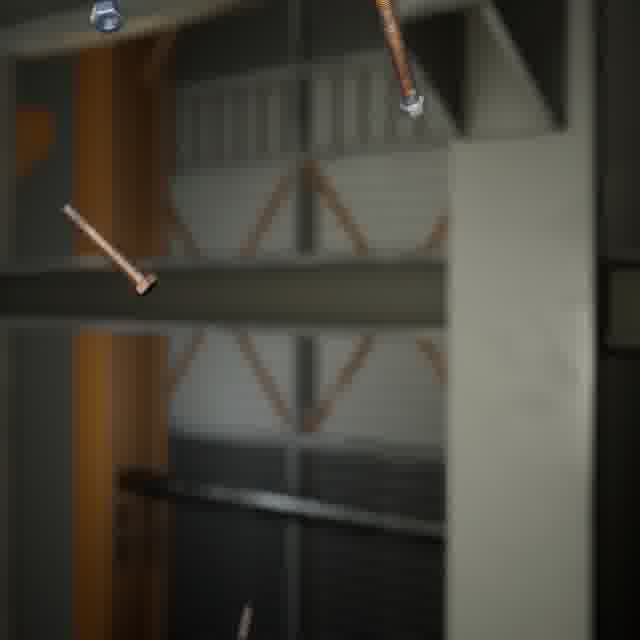bolt: (57, 198, 162, 302), (370, 0, 429, 122)
nut: (85, 0, 128, 38)
